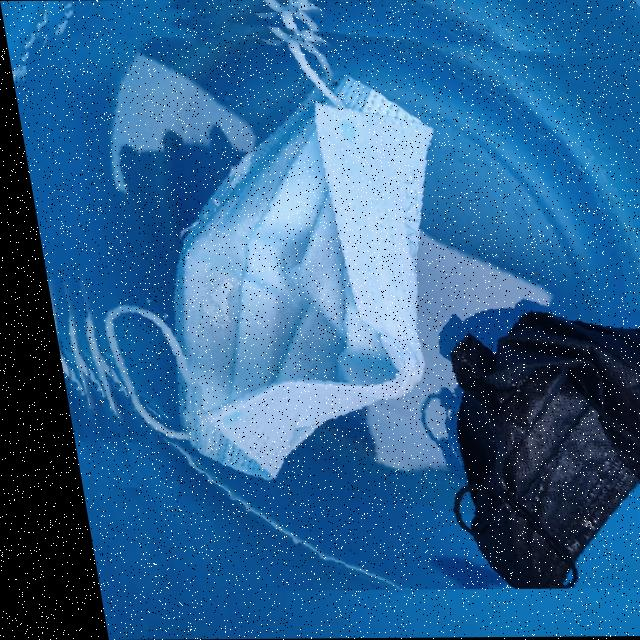litter: (0, 0, 640, 591), (0, 0, 485, 487), (315, 243, 640, 591)
